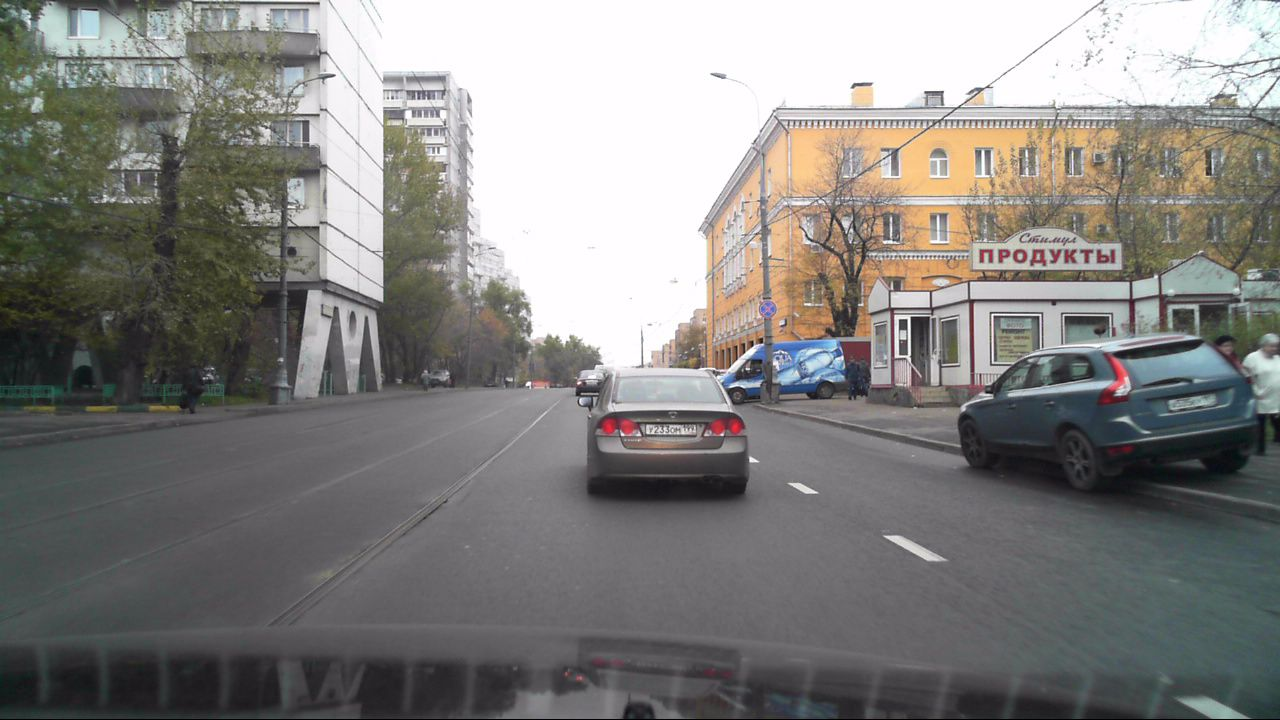No Parking: (759, 300, 776, 317)
